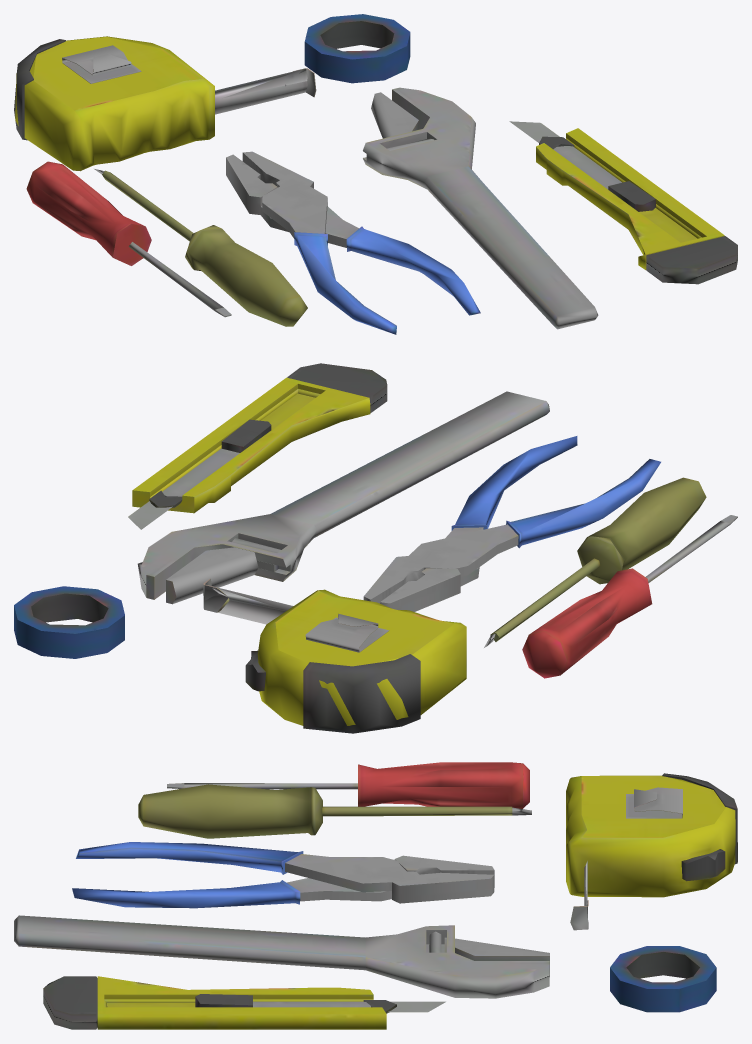
File: tools.glb
3 views of the same model, one above another, from view 1: azimuth 30°, elevation 25°; view 2: azimuth 150°, elevation 25°; view 3: azimuth 270°, elevation 25° (orthographic). The views are drawn at different scales.
Parts seen in each view (by area): view 1: turnscrew2_Tools_0; view 2: turnscrew2_Tools_0; view 3: turnscrew2_Tools_0.
Part boxes in pixels (x1,y1,x2,y2): turnscrew2_Tools_0: (14, 14, 737, 334); turnscrew2_Tools_0: (14, 363, 737, 733); turnscrew2_Tools_0: (14, 762, 737, 1029).
Bounding box in the file's own units: 30.51 × 4.46 × 40.21.
1 material, 1 textured.
